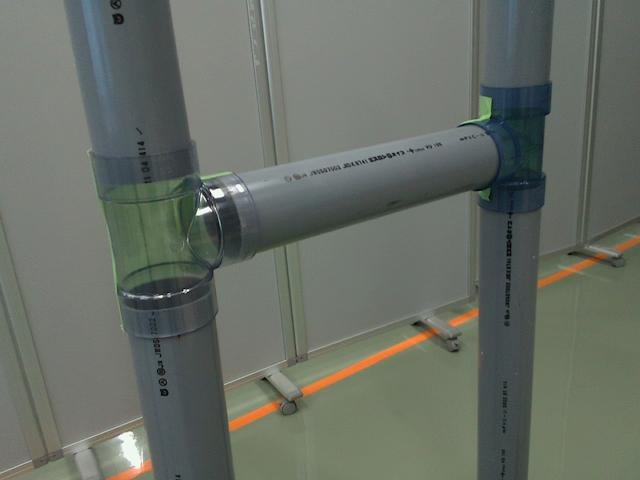junction: (82, 143, 260, 338), (454, 81, 548, 213)
